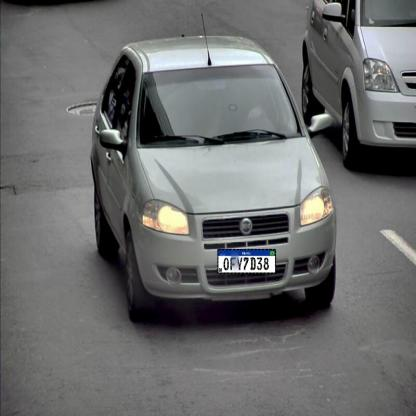PlacaM: (217, 249, 276, 274)
